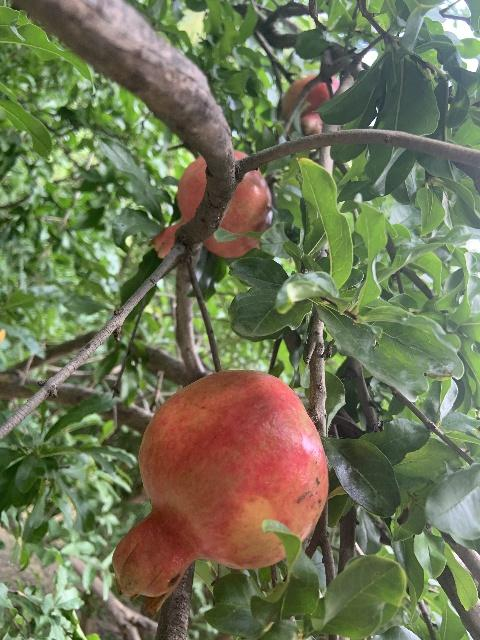ripe: (111, 370, 329, 618), (148, 149, 273, 259), (281, 74, 339, 137)
